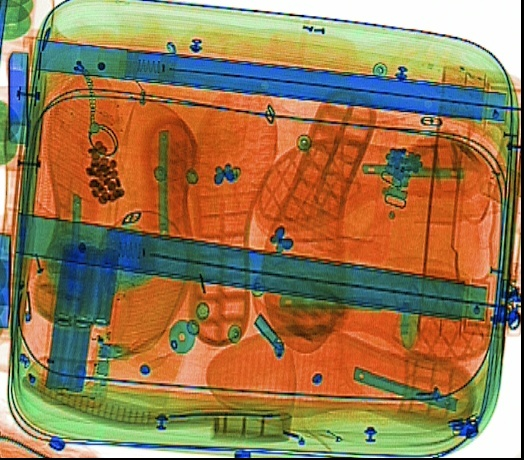powerbank: (38, 239, 127, 407)
